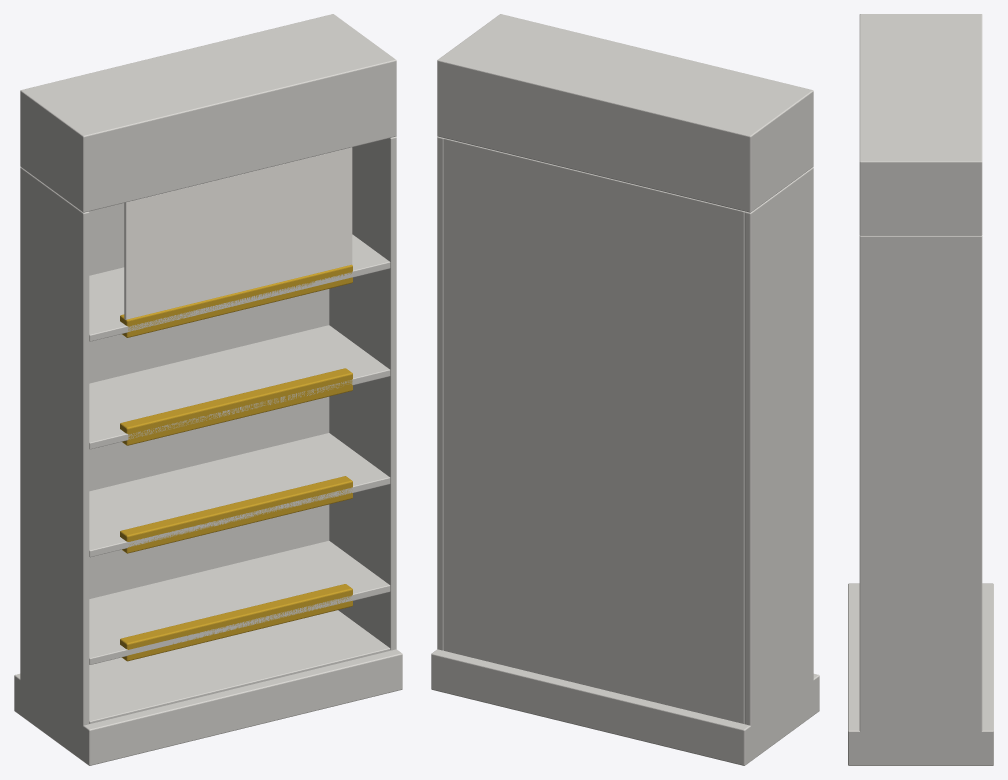
The model's file is rack.glb.
The picture shows the model from 3 angles, left to right: view 1: azimuth 30°, elevation 25°; view 2: azimuth 150°, elevation 25°; view 3: azimuth 270°, elevation 25°; orthographic projection. The views are drawn at different scales.
Parts seen in each view (by area): view 1: header.arch, carcass.side_1, carcass.back, poster.panel, carcass.side_2, base.plinth, shelf_1, shelf_2, deck.bottom, shelf_3, shelf.rail_3, shelf.rail_2 (+3 smaller); view 2: carcass.back, header.arch, carcass.side_1, base.plinth, carcass.side_2; view 3: carcass.side_2, header.arch, base.plinth.
Boxes of the visible parts, left/top/right/bottom form: header.arch: left=20, top=14, right=396, bottom=212; carcass.side_1: left=20, top=167, right=89, bottom=728; carcass.back: left=89, top=203, right=329, bottom=598; poster.panel: left=124, top=147, right=352, bottom=319; carcass.side_2: left=329, top=136, right=396, bottom=650; base.plinth: left=14, top=649, right=402, bottom=765; shelf_1: left=89, top=541, right=390, bottom=664; shelf_2: left=89, top=433, right=390, bottom=557; deck.bottom: left=89, top=610, right=390, bottom=723; shelf_3: left=89, top=325, right=390, bottom=449; shelf.rail_3: left=120, top=368, right=352, bottom=445; shelf.rail_2: left=120, top=476, right=352, bottom=553; carcass.back: left=443, top=138, right=744, bottom=723; header.arch: left=437, top=14, right=813, bottom=212; carcass.side_1: left=744, top=167, right=813, bottom=726; base.plinth: left=431, top=649, right=819, bottom=765; carcass.side_2: left=437, top=136, right=443, bottom=650; carcass.side_2: left=859, top=235, right=982, bottom=734; header.arch: left=859, top=14, right=982, bottom=235; base.plinth: left=848, top=583, right=993, bottom=765.
Bounding box in the file's own units: 0.9144 × 1.75 × 0.381.
